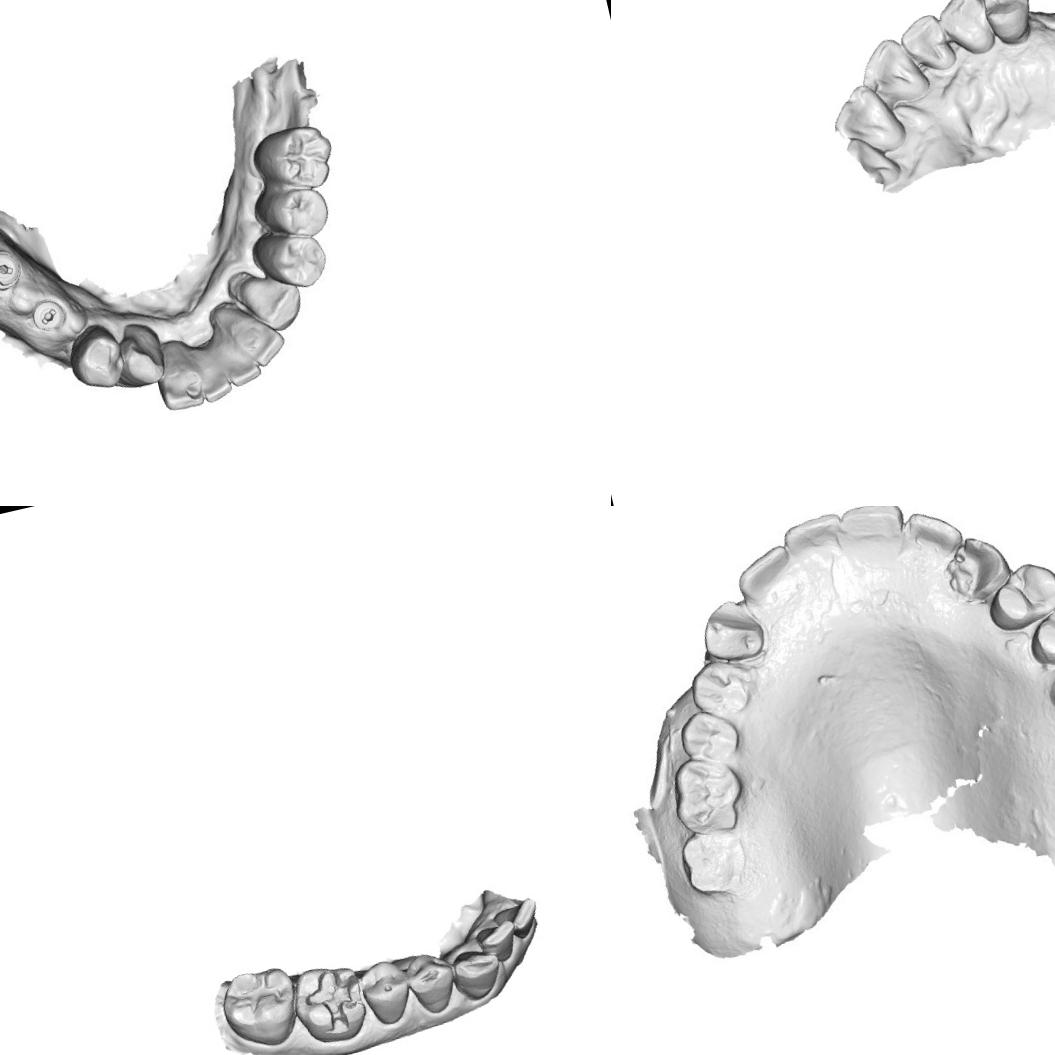canine: (238, 268, 308, 340), (104, 318, 168, 393), (696, 598, 764, 663), (950, 532, 1015, 596), (934, 0, 999, 61), (446, 942, 508, 1005)
implant_minus: (21, 291, 74, 340), (0, 242, 31, 302)
incisor: (824, 76, 910, 162), (852, 30, 933, 112), (218, 296, 292, 382), (781, 508, 854, 572), (148, 340, 210, 414), (894, 9, 958, 79), (898, 506, 969, 563), (211, 328, 265, 392), (838, 506, 910, 552), (737, 549, 796, 598), (190, 344, 234, 402), (492, 895, 544, 944), (474, 919, 521, 966)
inlay: (297, 962, 369, 1038)
molar: (214, 960, 307, 1055), (245, 116, 344, 200), (667, 754, 745, 835), (677, 824, 752, 904)
premolar: (249, 176, 333, 247), (259, 226, 336, 296), (354, 954, 418, 1032), (64, 320, 131, 392), (400, 946, 464, 1019), (986, 559, 1055, 625), (688, 656, 756, 718), (977, 0, 1041, 52), (680, 708, 736, 760), (1031, 599, 1055, 665)
